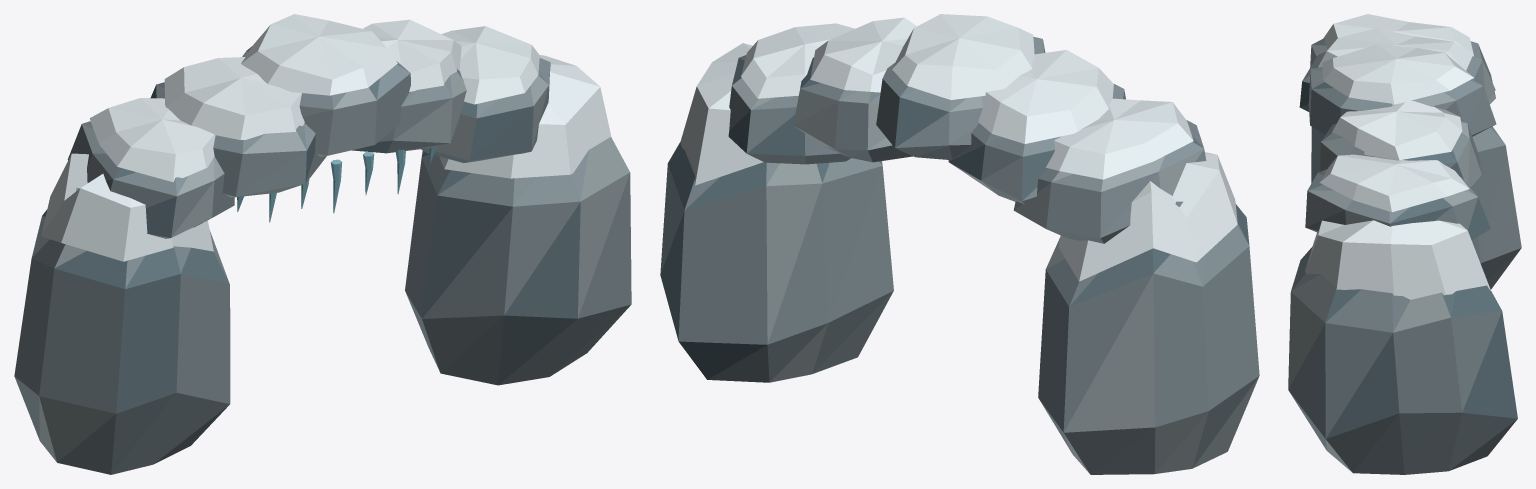
File: ROCK_14_FrozenRockArch.glb
3 views of the same model, side by side, from view 1: azimuth 30°, elevation 25°; view 2: azimuth 150°, elevation 25°; view 3: azimuth 270°, elevation 25° (orthographic). The views are drawn at different scales.
Parts seen in each view (by area): view 1: ROCK_14_FrozenRockArch; view 2: ROCK_14_FrozenRockArch; view 3: ROCK_14_FrozenRockArch.
Boxes of the visible parts, left/top/right/bottom form: ROCK_14_FrozenRockArch: left=14, top=14, right=631, bottom=474; ROCK_14_FrozenRockArch: left=660, top=14, right=1259, bottom=474; ROCK_14_FrozenRockArch: left=1288, top=14, right=1521, bottom=474.
Size of the model in its own units: 7.99 by 4.8 by 3.26.
